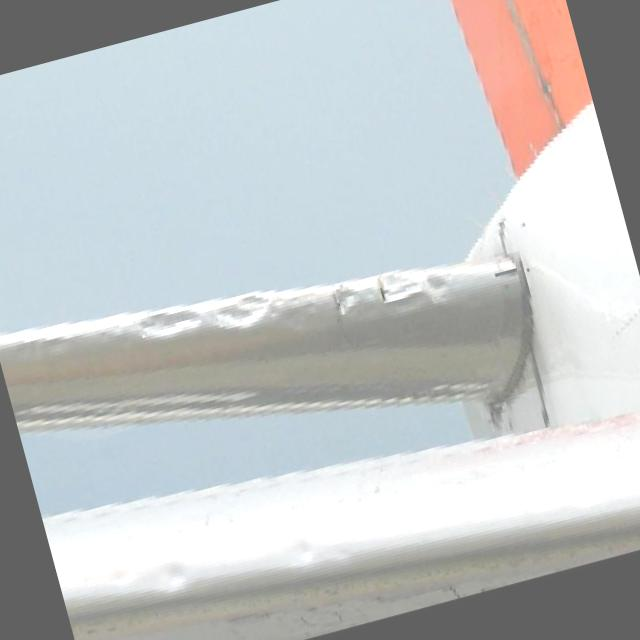dent: (126, 290, 215, 358), (205, 280, 293, 348), (373, 253, 458, 318), (325, 276, 370, 322), (148, 554, 191, 598), (281, 530, 319, 570)
